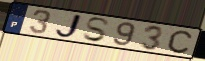3: (140, 25, 165, 52), (29, 9, 54, 35)
9: (111, 21, 137, 48)
C: (167, 29, 194, 55)
J: (53, 13, 84, 40)
S: (82, 16, 112, 43)
